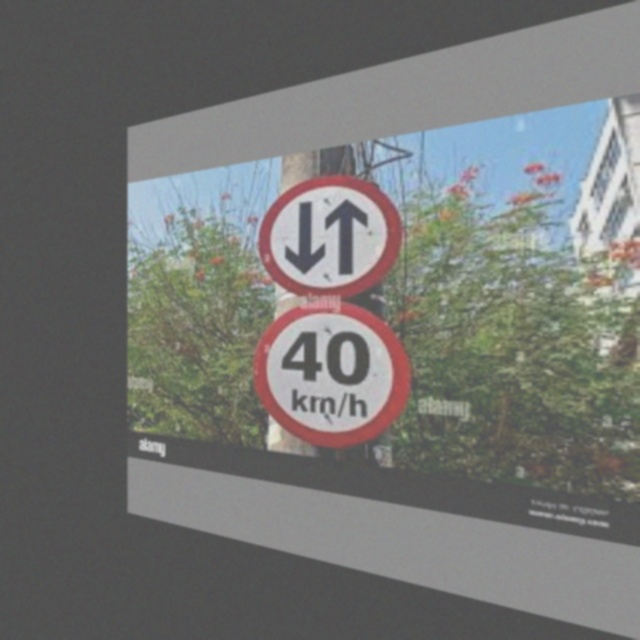Mandatory_Two_Way_Traffic: (261, 168, 400, 296)
